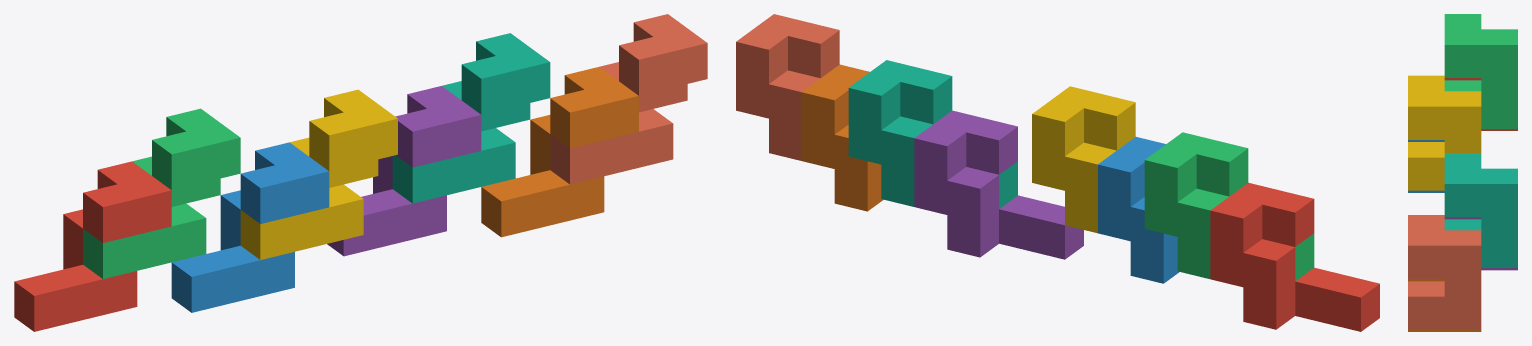
The model's file is tiling.obj.
3 views of the same model, side by side, from view 1: azimuth 30°, elevation 25°; view 2: azimuth 150°, elevation 25°; view 3: azimuth 270°, elevation 25° (orthographic). The views are drawn at different scales.
Parts seen in each view (by area): view 1: copy_1_domain_2, copy_1_domain_6, copy_1_domain_1, copy_1_domain_7, copy_1_domain_3, copy_1_domain_4, copy_1_domain_8, copy_1_domain_5; view 2: copy_1_domain_1, copy_1_domain_5, copy_1_domain_3, copy_1_domain_7, copy_1_domain_4, copy_1_domain_8, copy_1_domain_6, copy_1_domain_2; view 3: copy_1_domain_8, copy_1_domain_3, copy_1_domain_7, copy_1_domain_4, copy_1_domain_6, copy_1_domain_5, copy_1_domain_1, copy_1_domain_2.
Boxes of the visible parts, x1=… form: copy_1_domain_2: x1=171, y1=142, x2=329, y2=312; copy_1_domain_6: x1=481, y1=67, x2=638, y2=237; copy_1_domain_1: x1=14, y1=161, x2=171, y2=331; copy_1_domain_7: x1=392, y1=33, x2=550, y2=203; copy_1_domain_3: x1=83, y1=108, x2=240, y2=278; copy_1_domain_4: x1=240, y1=89, x2=397, y2=259; copy_1_domain_8: x1=550, y1=14, x2=707, y2=184; copy_1_domain_5: x1=327, y1=86, x2=481, y2=256; copy_1_domain_1: x1=1210, y1=182, x2=1379, y2=331; copy_1_domain_5: x1=914, y1=110, x2=1083, y2=259; copy_1_domain_3: x1=1144, y1=132, x2=1314, y2=280; copy_1_domain_7: x1=848, y1=60, x2=1017, y2=208; copy_1_domain_4: x1=1032, y1=86, x2=1135, y2=233; copy_1_domain_8: x1=736, y1=14, x2=839, y2=160; copy_1_domain_6: x1=801, y1=64, x2=883, y2=211; copy_1_domain_2: x1=1098, y1=137, x2=1179, y2=283; copy_1_domain_8: x1=1408, y1=215, x2=1481, y2=329; copy_1_domain_3: x1=1444, y1=14, x2=1517, y2=128; copy_1_domain_7: x1=1444, y1=153, x2=1517, y2=267; copy_1_domain_4: x1=1408, y1=75, x2=1481, y2=190; copy_1_domain_6: x1=1408, y1=279, x2=1481, y2=331; copy_1_domain_5: x1=1444, y1=217, x2=1517, y2=270; copy_1_domain_1: x1=1444, y1=78, x2=1517, y2=130; copy_1_domain_2: x1=1408, y1=140, x2=1444, y2=192.
Bounding box in the file's own units: 19 × 4 × 3.
